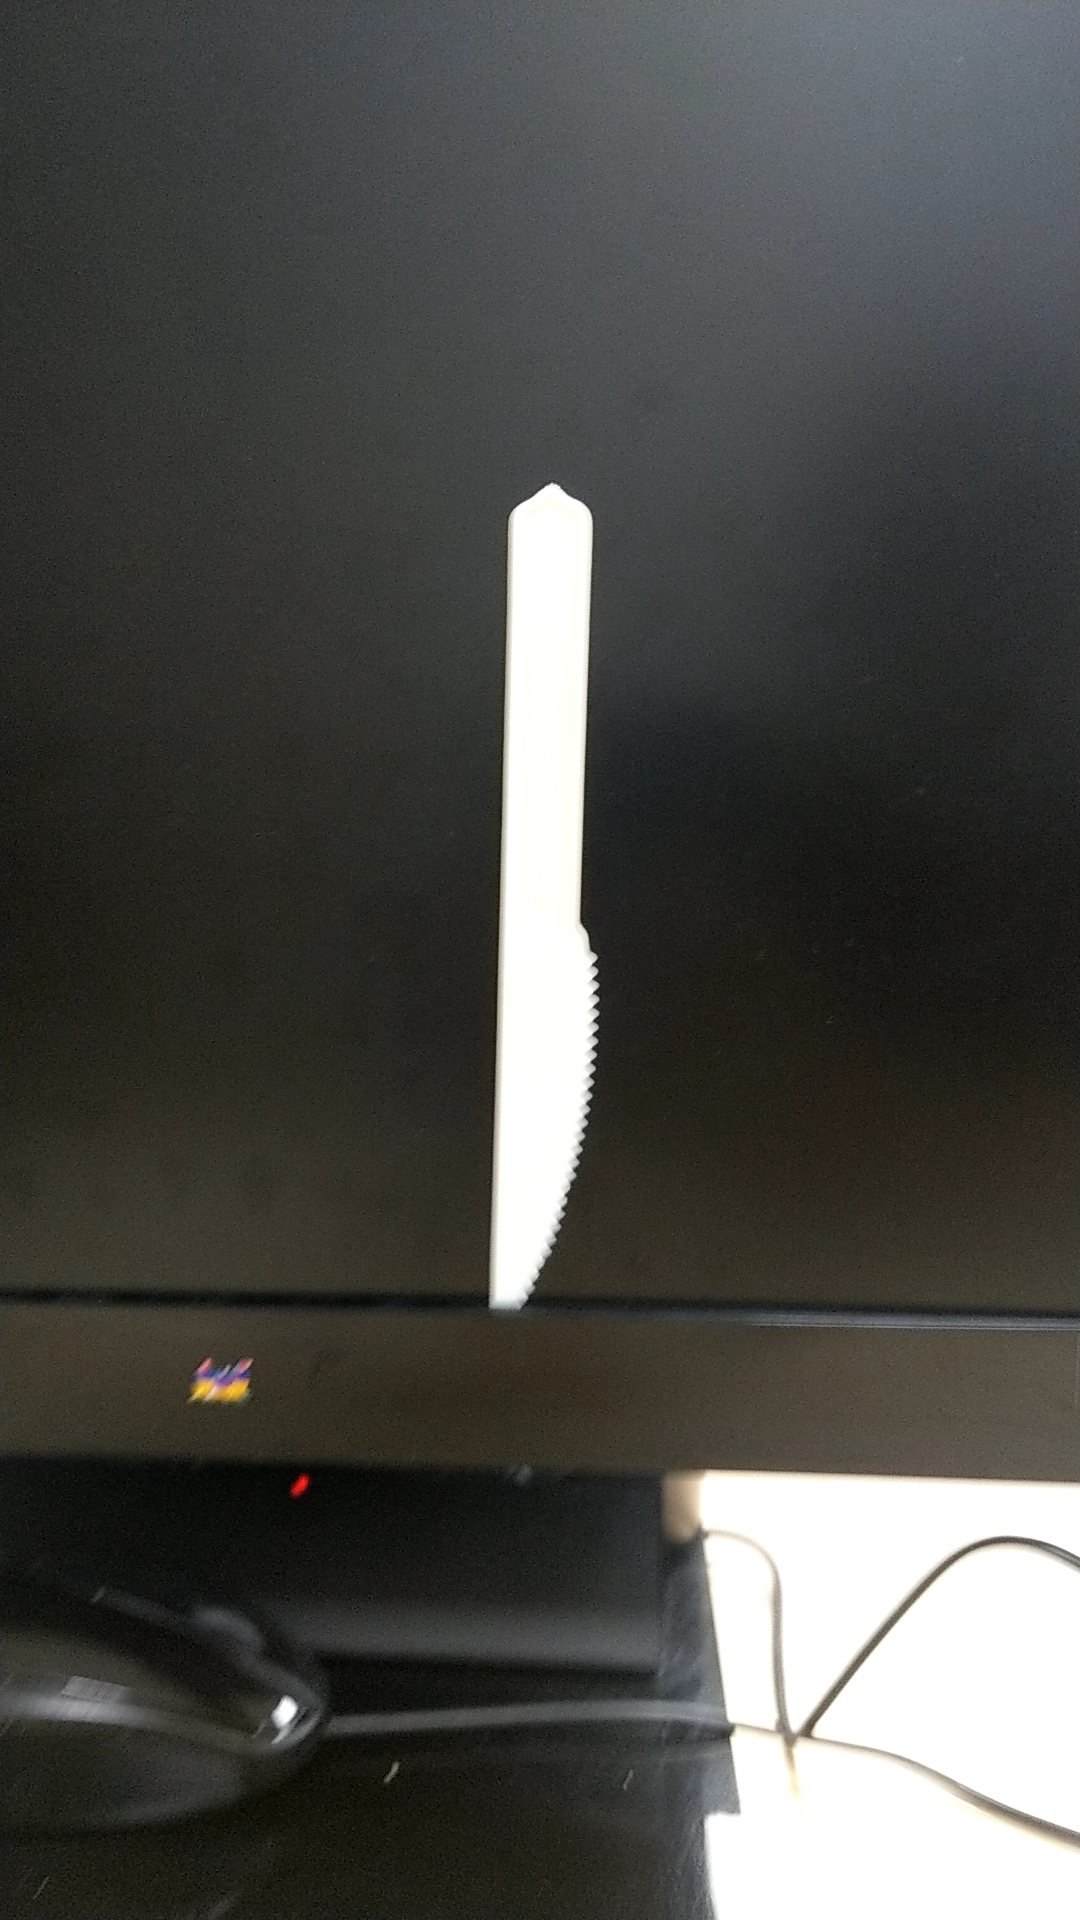knife: (459, 462, 616, 1317)
